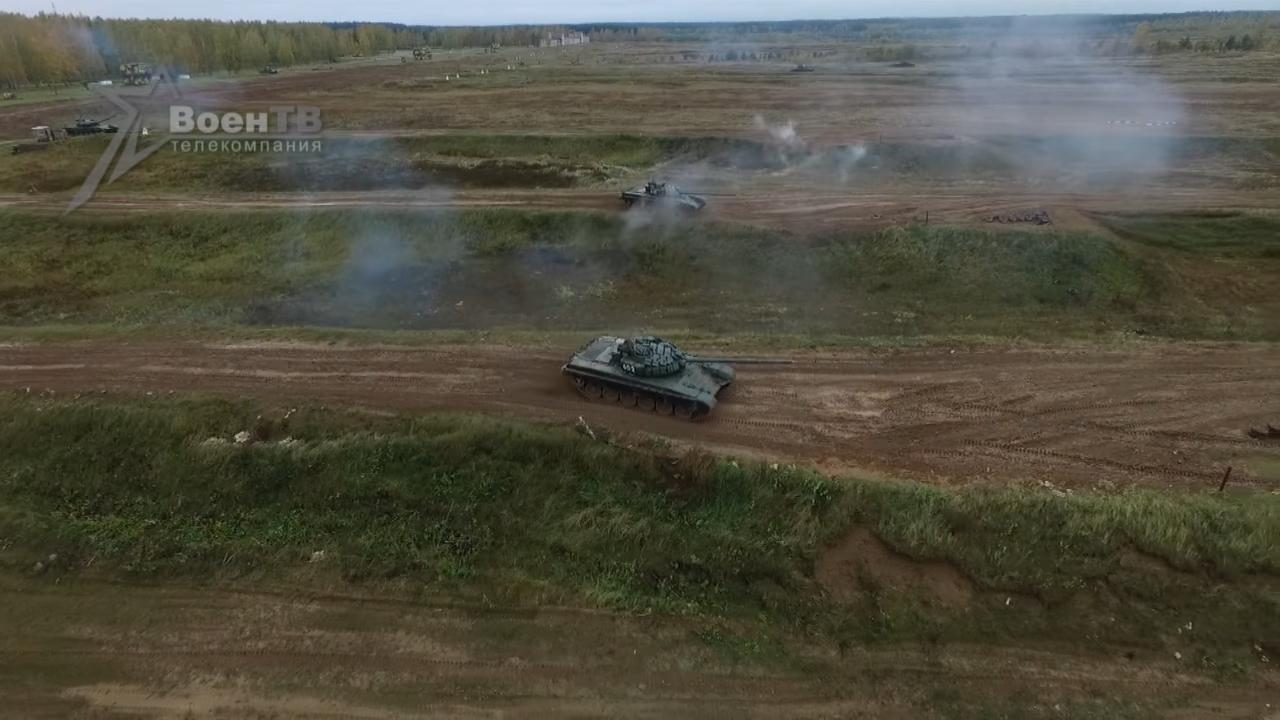tank: (559, 334, 794, 421), (623, 181, 738, 215), (63, 115, 119, 136)
